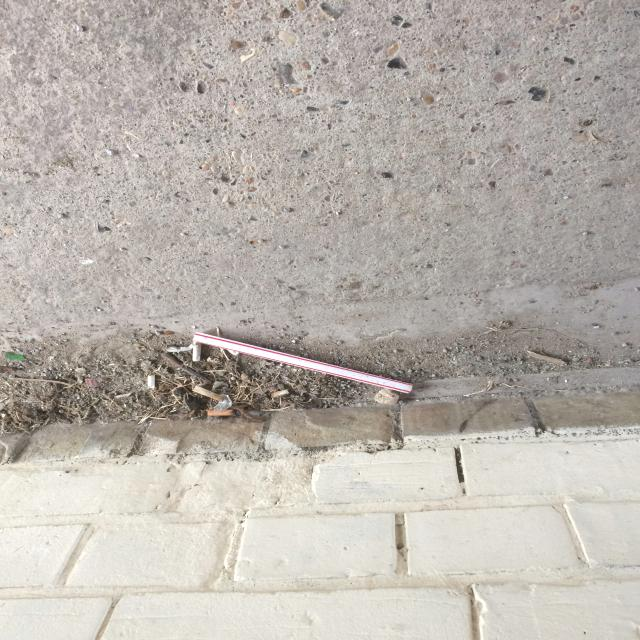Broken glass: (214, 394, 232, 413), (5, 352, 24, 361)
Cigarette: (192, 385, 224, 402), (166, 344, 193, 351), (208, 409, 238, 415), (193, 341, 202, 361), (271, 389, 290, 398), (148, 373, 155, 389)
Plastic straw: (192, 332, 412, 393)
